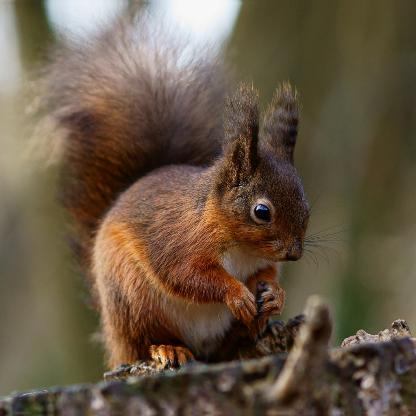Squirrel: (12, 2, 364, 370)
